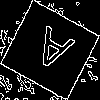A: (25, 24, 76, 82)
